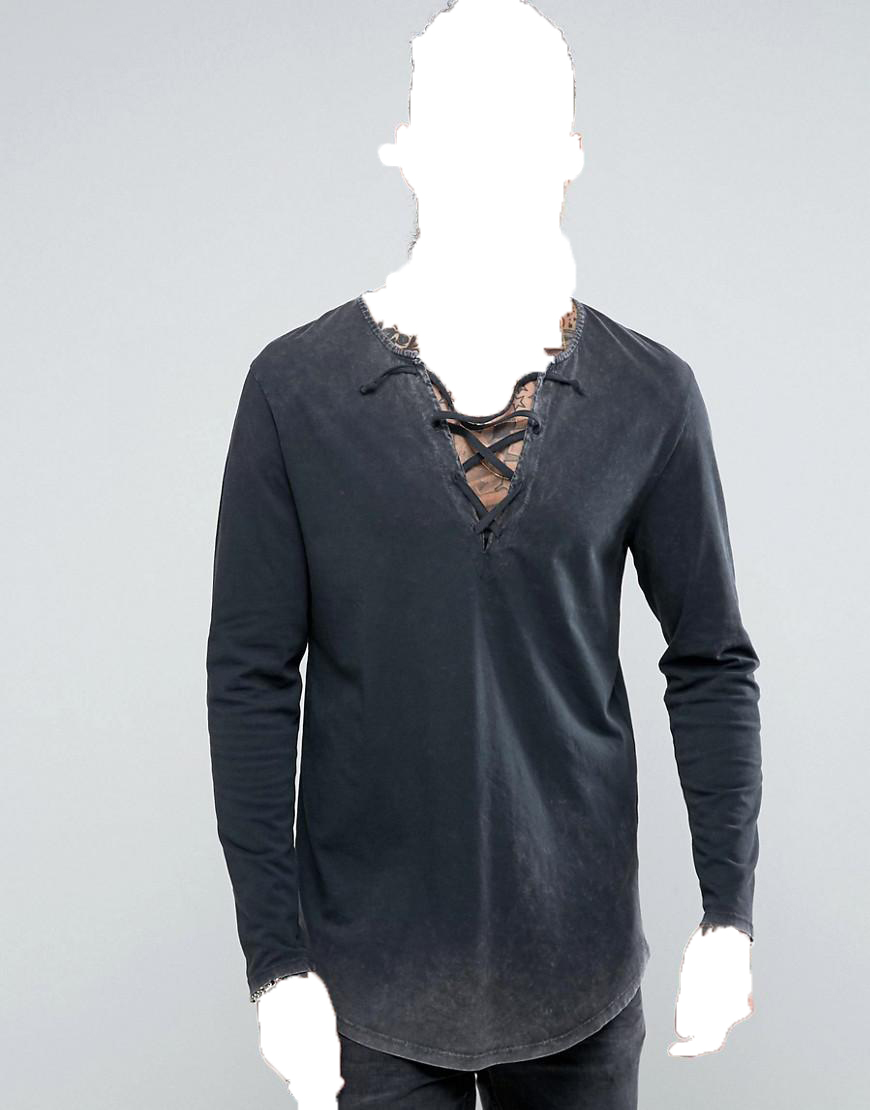teeshirt: (195, 293, 768, 1003)
